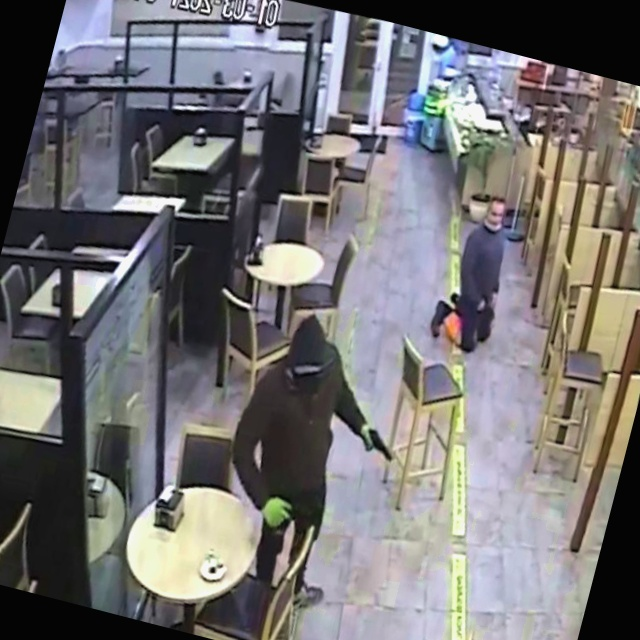gun: (343, 413, 416, 487)
